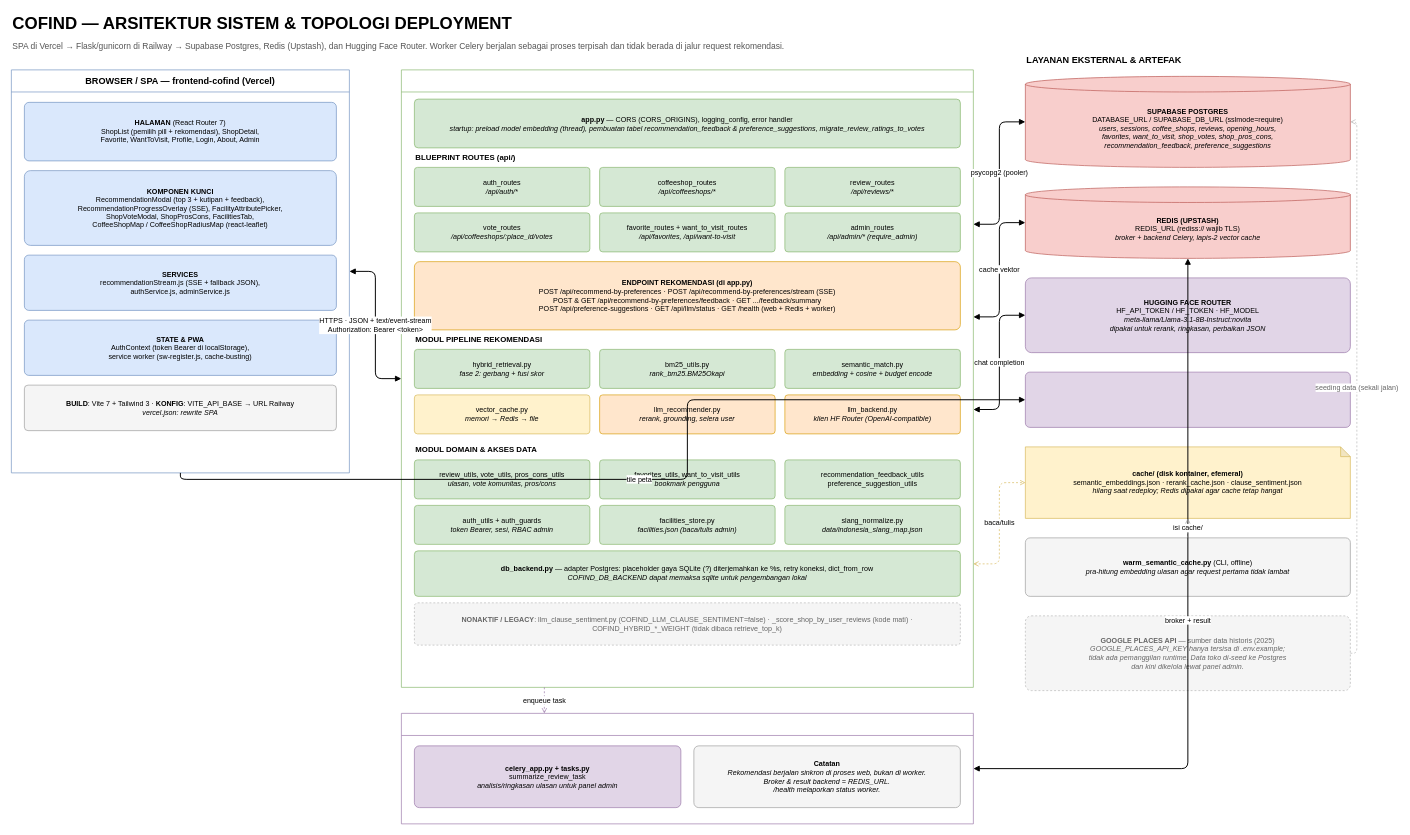
Some shapes in this 1410 by 835 pixel diagram are drawn without their labels. Here are the shapes that lost their labels. From the top down, the box of each, then its label:
(401, 69, 973, 687): BACKEND — Flask + gunicorn (Railway) · web: 2 workers × 4 threads, timeout 120s
(1025, 371, 1350, 427): OPENSTREETMAP TILES dipanggil langsung oleh browser lewat react-leaflet
(401, 713, 973, 824): WORKER — Celery (Procfile: worker, concurrency 1)
